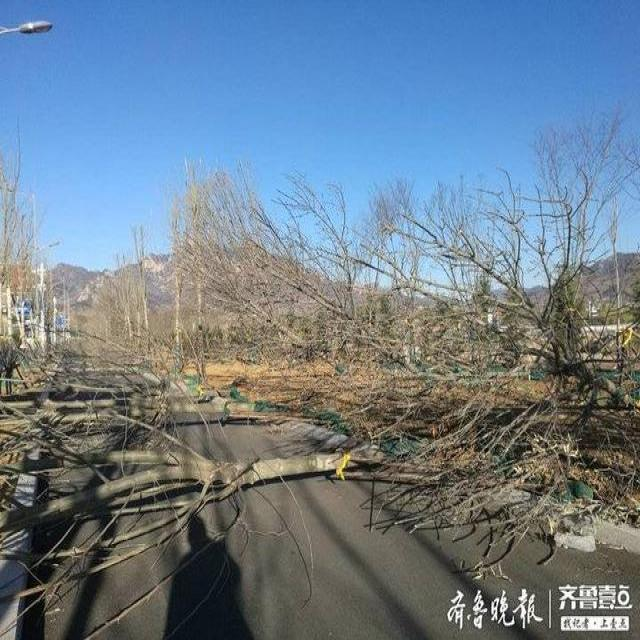fallen_object: (0, 428, 352, 640), (382, 192, 640, 422), (182, 155, 418, 370), (167, 247, 349, 381)
